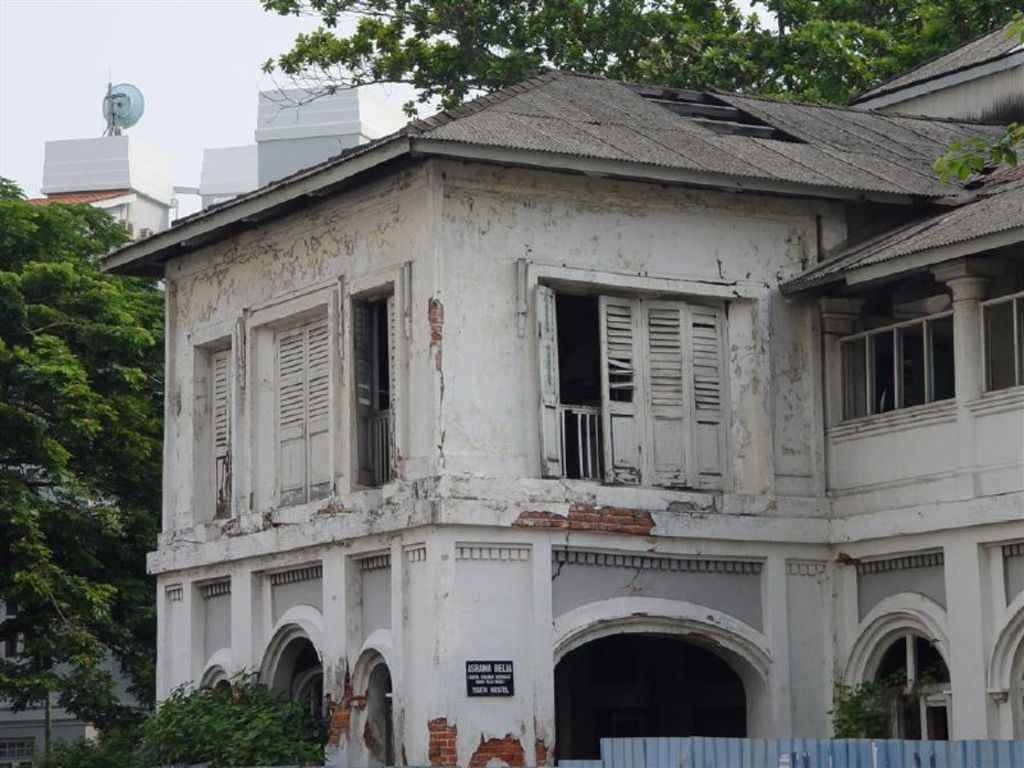Window: (527, 266, 767, 493)
